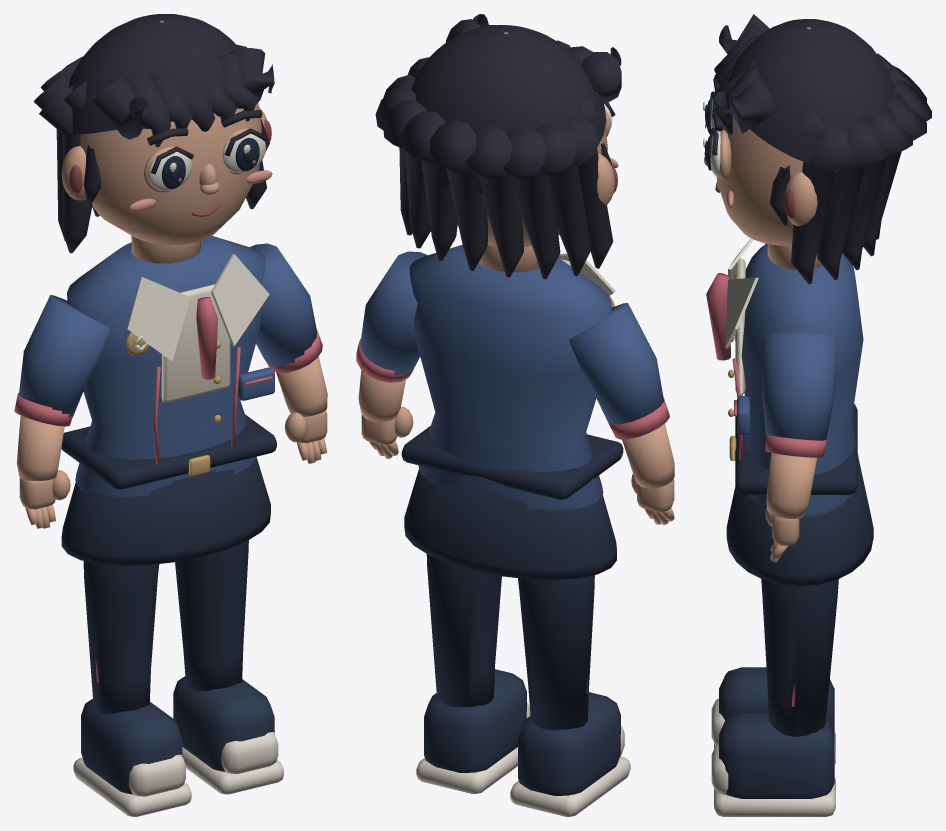
The model's file is blocky_character_b.glb.
The picture shows the model from 3 angles, left to right: view 1: azimuth 30°, elevation 25°; view 2: azimuth 150°, elevation 25°; view 3: azimuth 270°, elevation 25°; orthographic projection.
Parts seen in each view (by area): view 1: figure.001; view 2: figure.001; view 3: figure.001.
Boxes of the visible parts, x1,y1,x2,y2 form: figure.001: [14, 14, 327, 816]; figure.001: [356, 14, 674, 816]; figure.001: [703, 14, 931, 816].
Size of the model in its own units: 1.07 by 2.5 by 0.6882.
